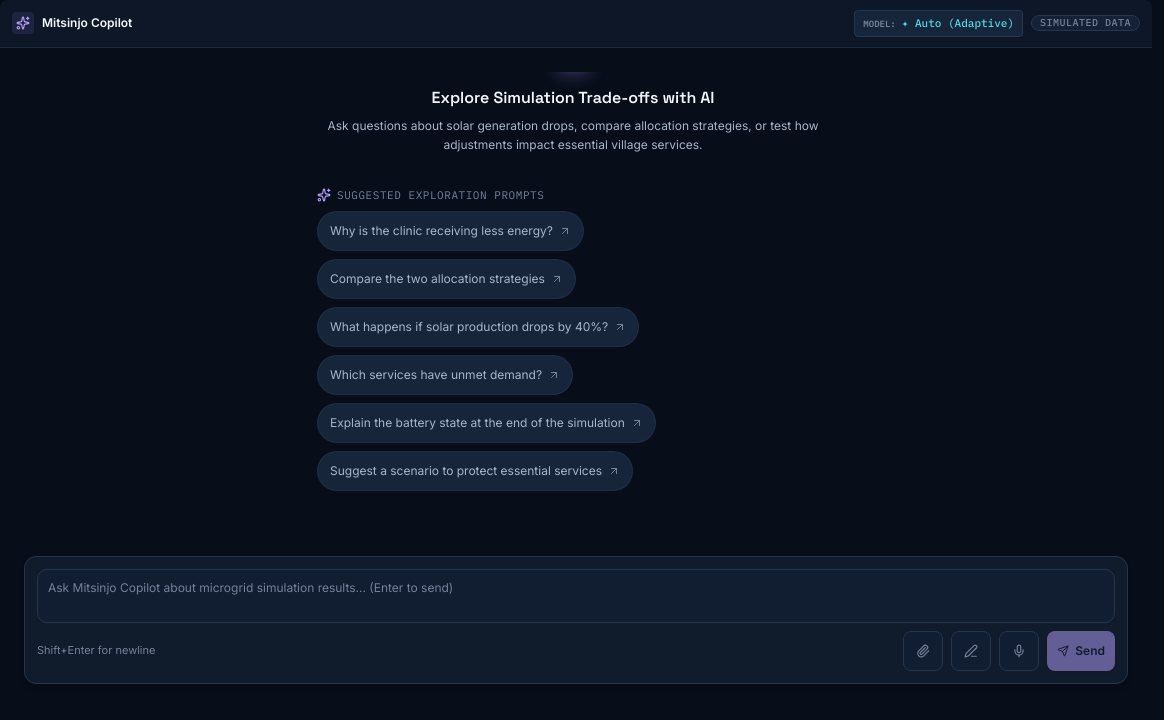
Test case: Copilot chat flow (decisions, fallback note) › an offline fallback is a quiet note on the answer, not a red alert
This screenshot has width=1164, height=720.
(page scrolled)
Replace the text in the text box with "Compare the strategies": (576, 596) [37,568,1115,622]
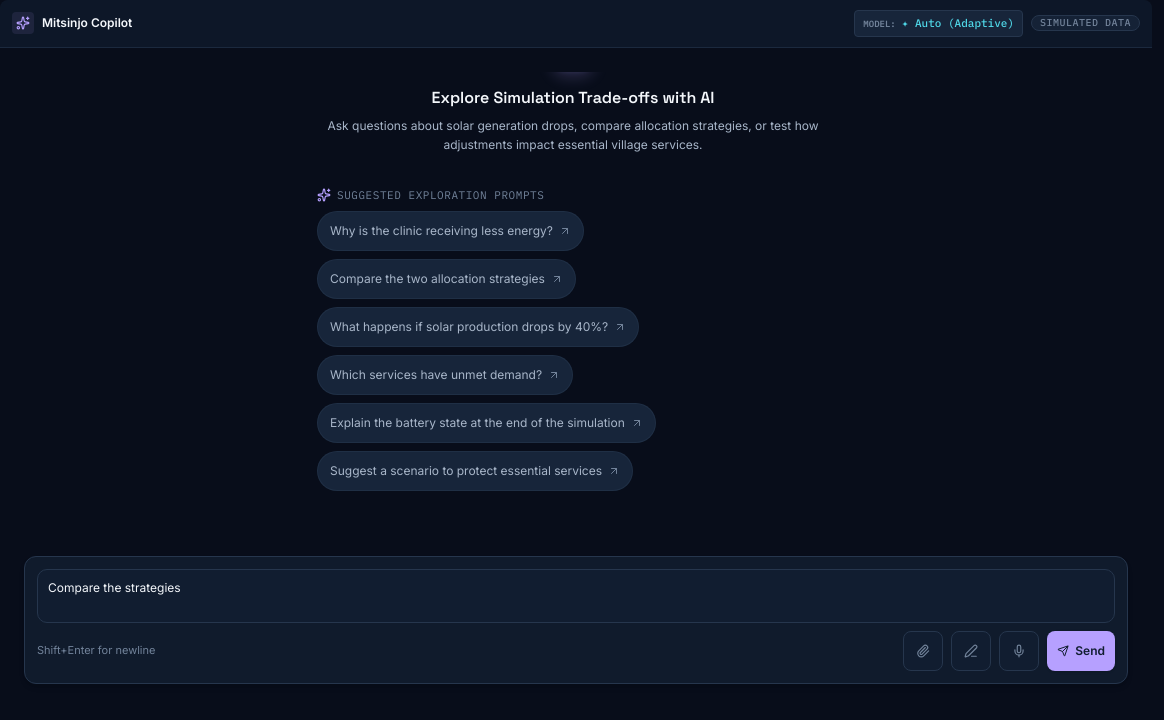
Press Enter in the text box, box [37,568,1115,622]
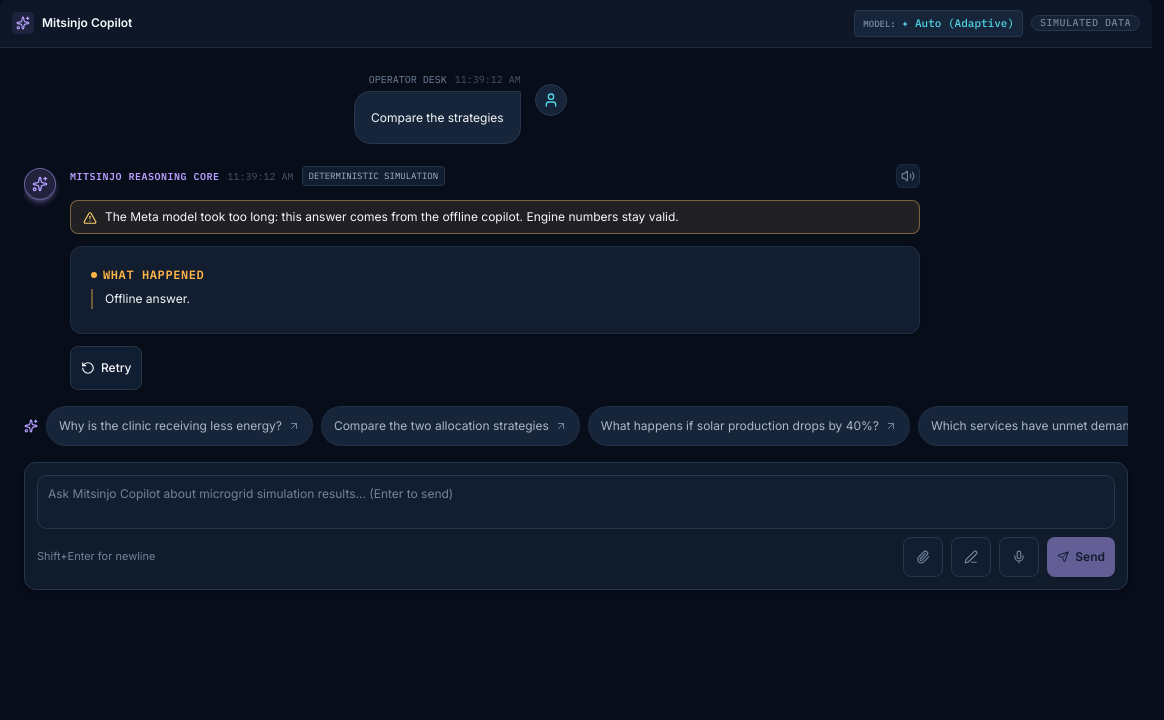
Now the text "The Meta model took too long" is shown, box [105,209,679,224]
